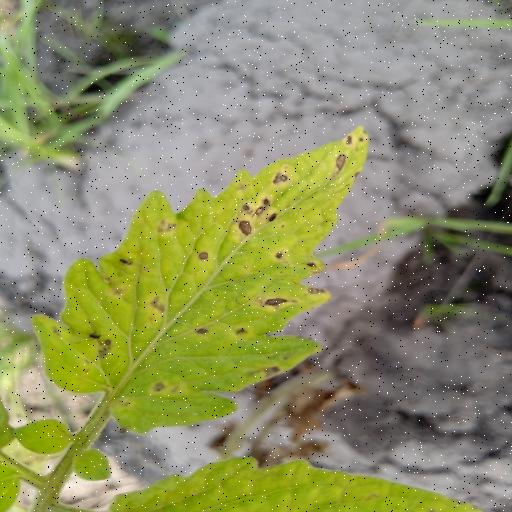Tomato_Brown_Spots: (28, 123, 376, 436)
